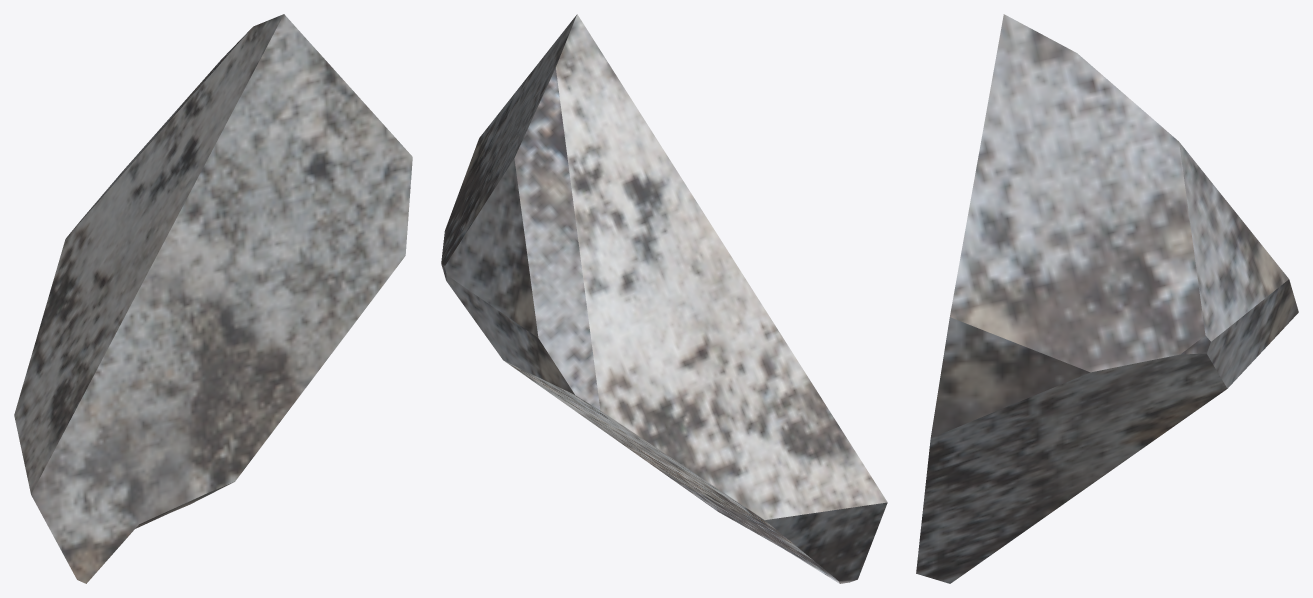
File: Asteroid_Large_001_02_001_03_016.fbx
The picture shows the model from 3 angles, left to right: view 1: azimuth 30°, elevation 25°; view 2: azimuth 150°, elevation 25°; view 3: azimuth 270°, elevation 25°; orthographic projection. The views are drawn at different scales.
Visible parts, largest first — view 1: Asteroid_Large_001_02_001_03_016; view 2: Asteroid_Large_001_02_001_03_016; view 3: Asteroid_Large_001_02_001_03_016.
Boxes of the visible parts, x1,y1,x2,y2 form: Asteroid_Large_001_02_001_03_016: (14,14,412,583); Asteroid_Large_001_02_001_03_016: (441,14,887,583); Asteroid_Large_001_02_001_03_016: (916,14,1298,583).
Size of the model in its own units: 5.92 by 7.34 by 3.56.
